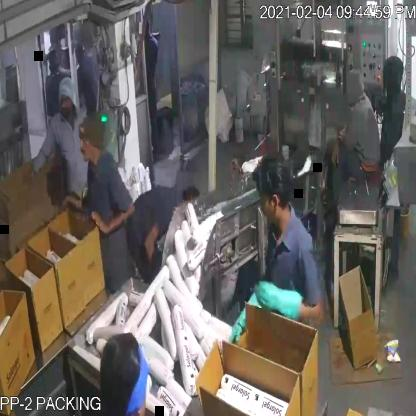glove: (251, 271, 312, 334)
no_glove: (87, 198, 137, 235), (58, 188, 90, 226), (327, 130, 346, 184)
